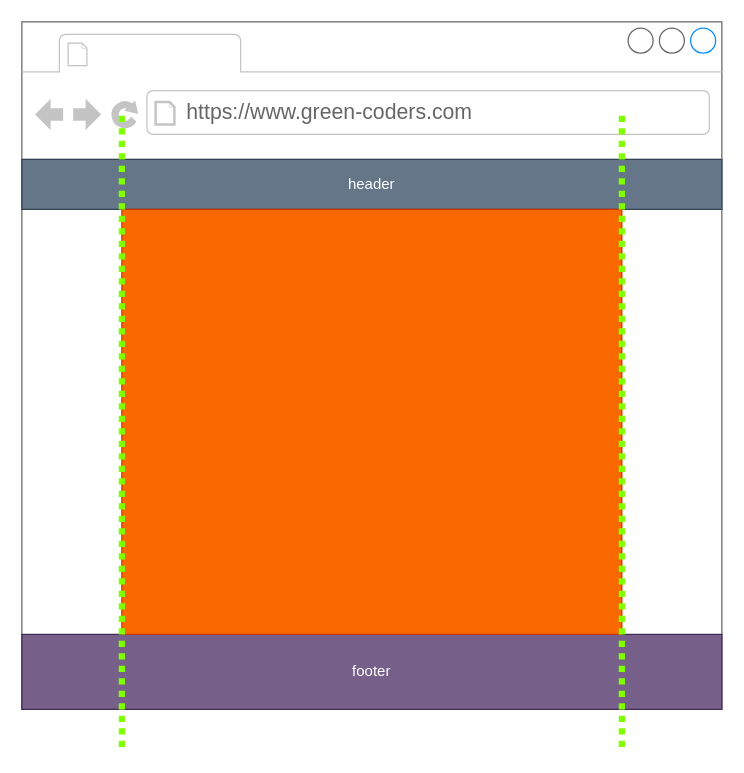
Image size: 744x773. Some labels were removed from this diagram. The box of each missing label's shape, as (x1, y1, x2, y2) in pixels:
home: (96, 36, 234, 69)
main: (121, 208, 622, 634)
